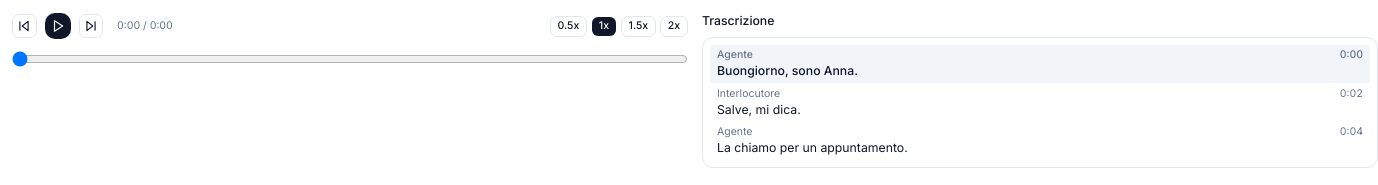
it: RecordingPlayer › toggles to pause label after clicking play
The image size is (1378, 185).
Step 1. Click the button named "Riproduci" → click(58, 26), box [44, 12, 72, 40]
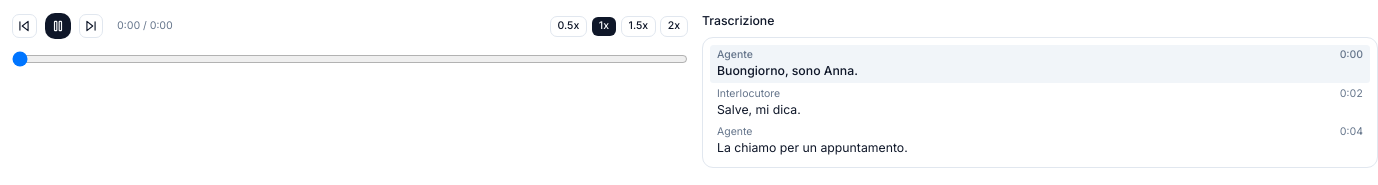
Expected: the button named "Pausa" is shown, [44, 12, 72, 40]
